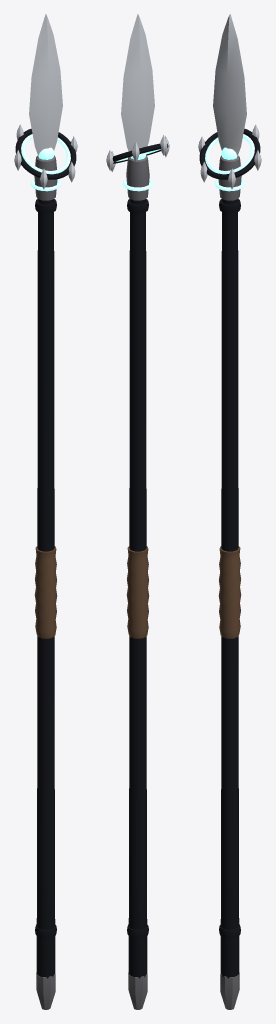
File: esc_w_knight_spear_8.glb
3 views of the same model, side by side, from view 1: azimuth 30°, elevation 25°; view 2: azimuth 210°, elevation 25°; view 3: azimuth 330°, elevation 25° (orthographic).
Parts seen in each view (by area): view 1: esc_w_knight_spear_8; view 2: esc_w_knight_spear_8; view 3: esc_w_knight_spear_8.
Part boxes in pixels (x1,y1,x2,y2): esc_w_knight_spear_8: (14, 14, 77, 1009); esc_w_knight_spear_8: (106, 14, 169, 1009); esc_w_knight_spear_8: (198, 14, 261, 1009).
Bounding box in the file's own units: 0.1524 × 2.29 × 0.1143.
